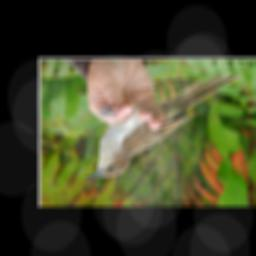Cuckoo: (84, 72, 243, 180)
